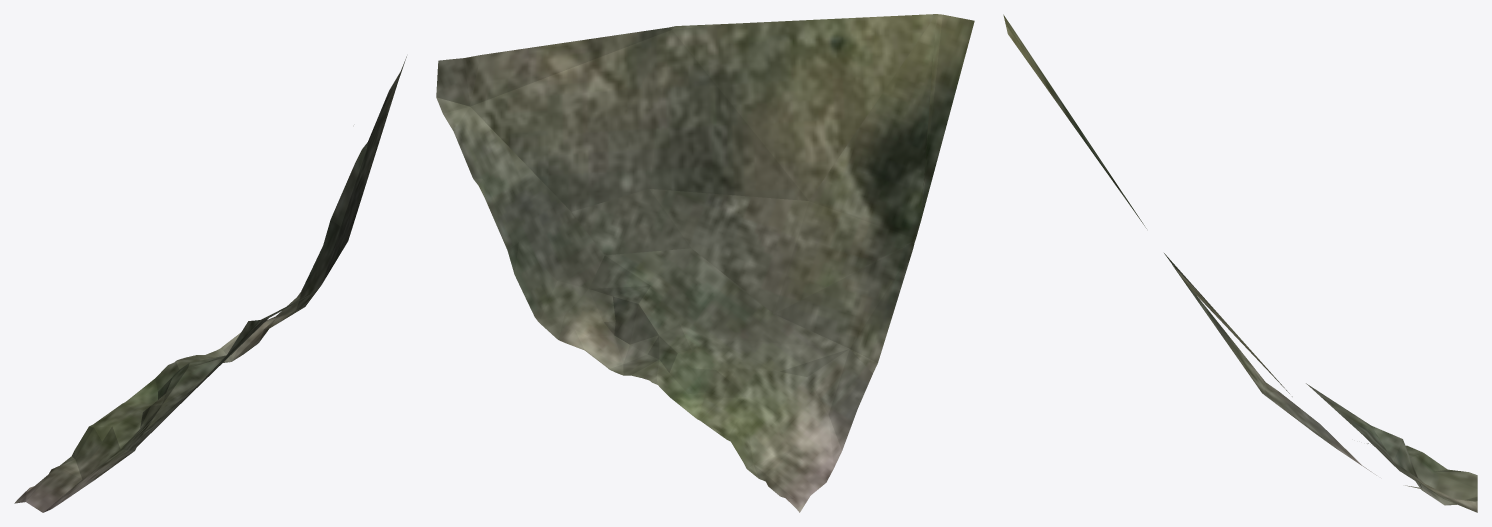
3 views of the same model, side by side, from view 1: azimuth 30°, elevation 25°; view 2: azimuth 150°, elevation 25°; view 3: azimuth 270°, elevation 25° (orthographic). The views are drawn at different scales.
Size of the model in its own units: 3.69 by 3.53 by 3.07.
Materials: 1 (1 with a texture image).
